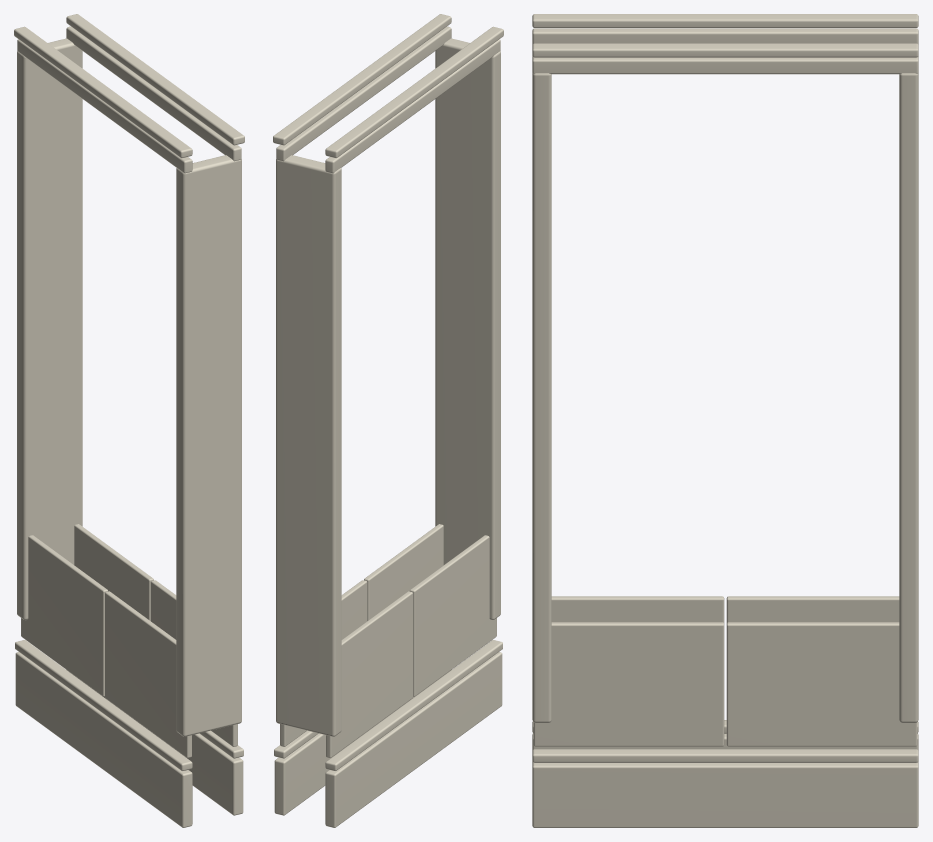
The model's file is Architecture031.fbx.
3 renders of one model, left to right at view 1: azimuth 30°, elevation 25°; view 2: azimuth 150°, elevation 25°; view 3: azimuth 270°, elevation 25°, orthographic. The views are drawn at different scales.
Visible parts, largest first — view 1: Architecture031; view 2: Architecture031; view 3: Architecture031.
Boxes of the visible parts, x1,y1,x2,y2 form: Architecture031: [14, 14, 244, 827]; Architecture031: [273, 14, 503, 827]; Architecture031: [532, 14, 918, 827].
Bounding box in the file's own units: 40 × 401 × 180.
